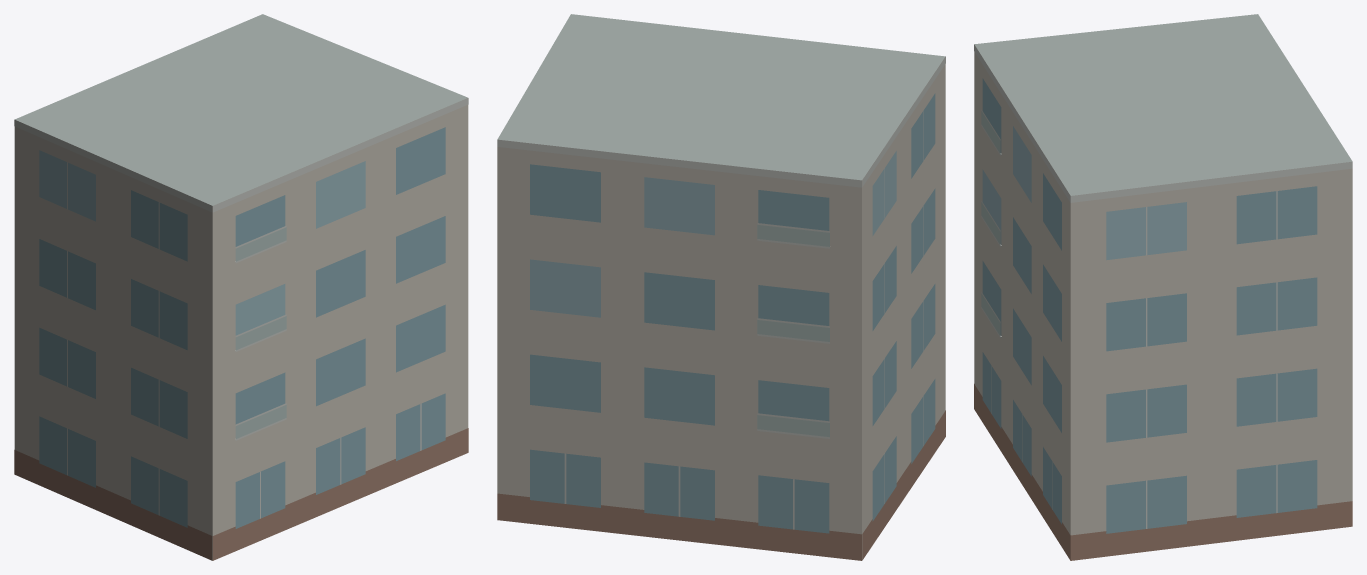
The model's file is survey-upis-32936815.glb.
3 views of the same model, side by side, from view 1: azimuth 30°, elevation 25°; view 2: azimuth 150°, elevation 25°; view 3: azimuth 270°, elevation 25° (orthographic). The views are drawn at different scales.
Visible parts, largest first — view 1: survey-upis-32936815.tmp; view 2: survey-upis-32936815.tmp; view 3: survey-upis-32936815.tmp.
Part boxes in pixels (left/top/right/bottom): survey-upis-32936815.tmp: left=14, top=14, right=468, bottom=560; survey-upis-32936815.tmp: left=497, top=14, right=945, bottom=560; survey-upis-32936815.tmp: left=974, top=14, right=1352, bottom=560.
Size of the model in its own units: 13.7 by 12.8 by 12.05.
